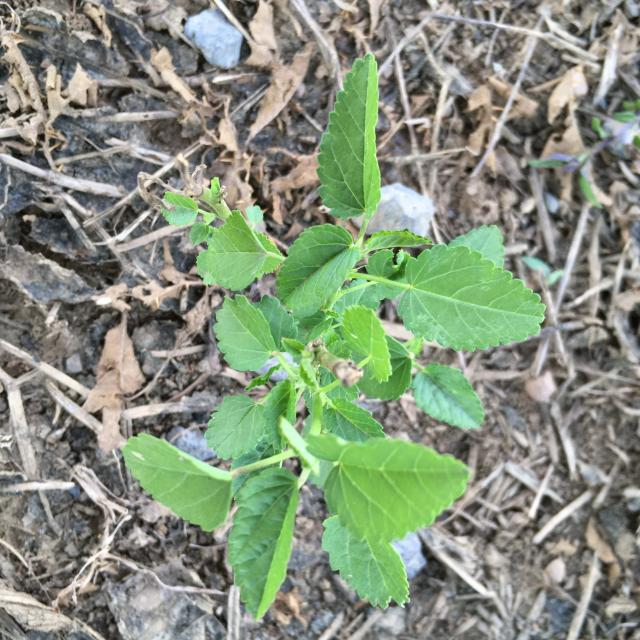PricklySida: (120, 52, 546, 621)
